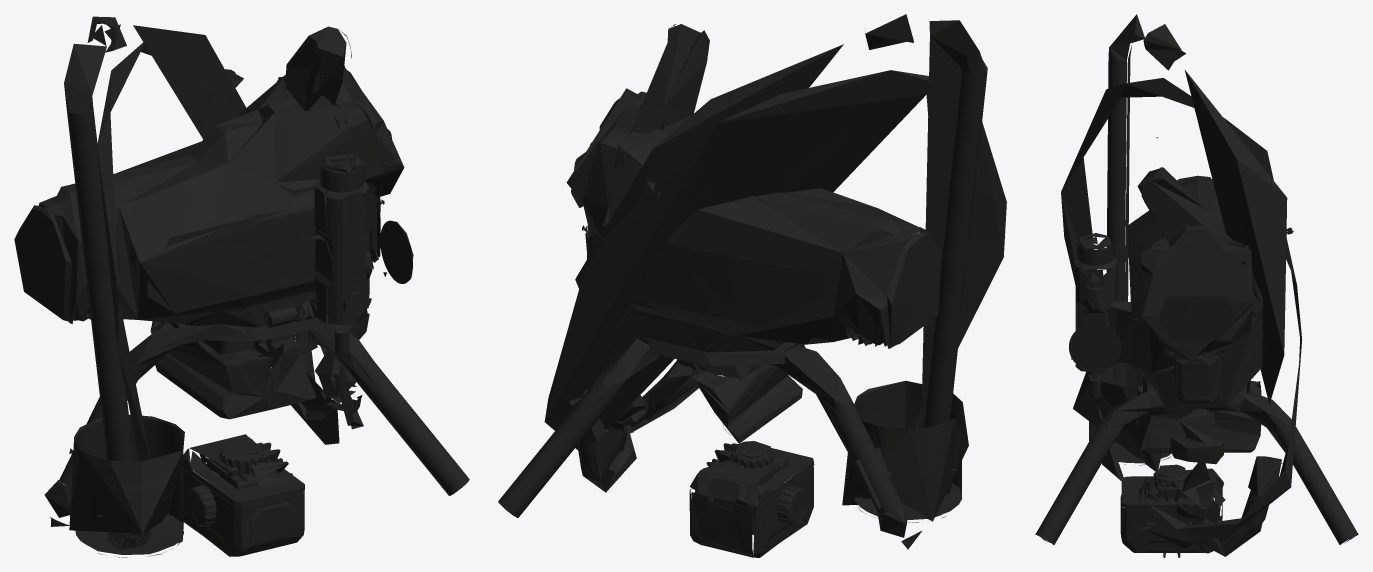
The model's file is equipment_paintPumpSystem_compactTripod_a01.glb.
3 views of the same model, side by side, from view 1: azimuth 30°, elevation 25°; view 2: azimuth 150°, elevation 25°; view 3: azimuth 270°, elevation 25° (orthographic). The views are drawn at different scales.
Visible parts, largest first — view 1: geometry_0; view 2: geometry_0; view 3: geometry_0.
Part boxes in pixels (left/top/right/bottom): geometry_0: left=14, top=16, right=469, bottom=557; geometry_0: left=498, top=14, right=1006, bottom=557; geometry_0: left=1035, top=14, right=1358, bottom=557.
Size of the model in its own units: 0.2772 by 0.42 by 0.2669.
Materials: 1 (1 with a texture image).
